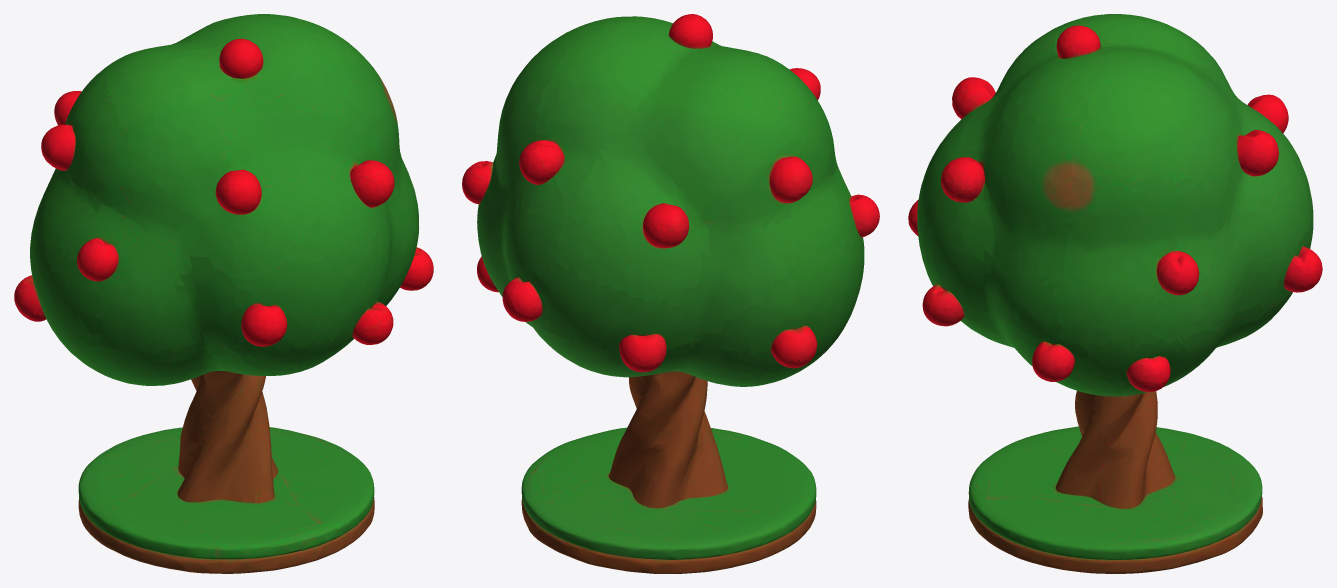
The picture shows the model from 3 angles, left to right: view 1: azimuth 30°, elevation 25°; view 2: azimuth 150°, elevation 25°; view 3: azimuth 270°, elevation 25°; orthographic projection.
Size of the model in its own units: 1.45 by 1.9 by 1.47.
1 material, 1 textured.
